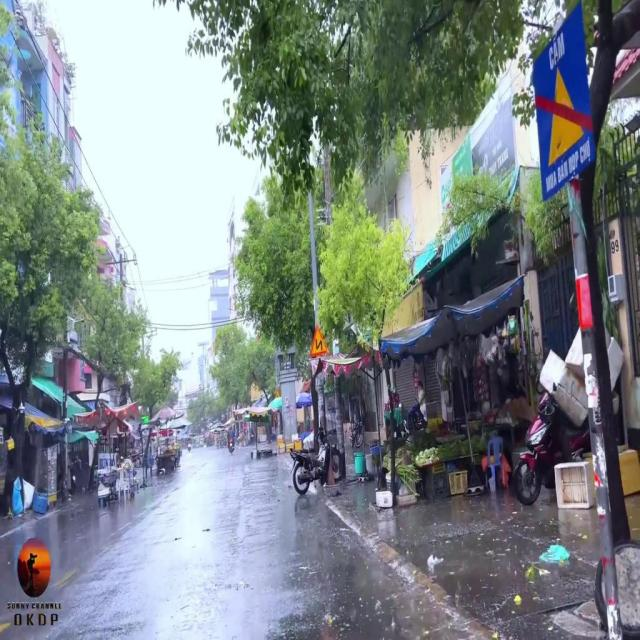cho_ngoat_nguy_hiem_lien_tiep: (308, 323, 330, 358)
khac: (532, 0, 596, 203)
